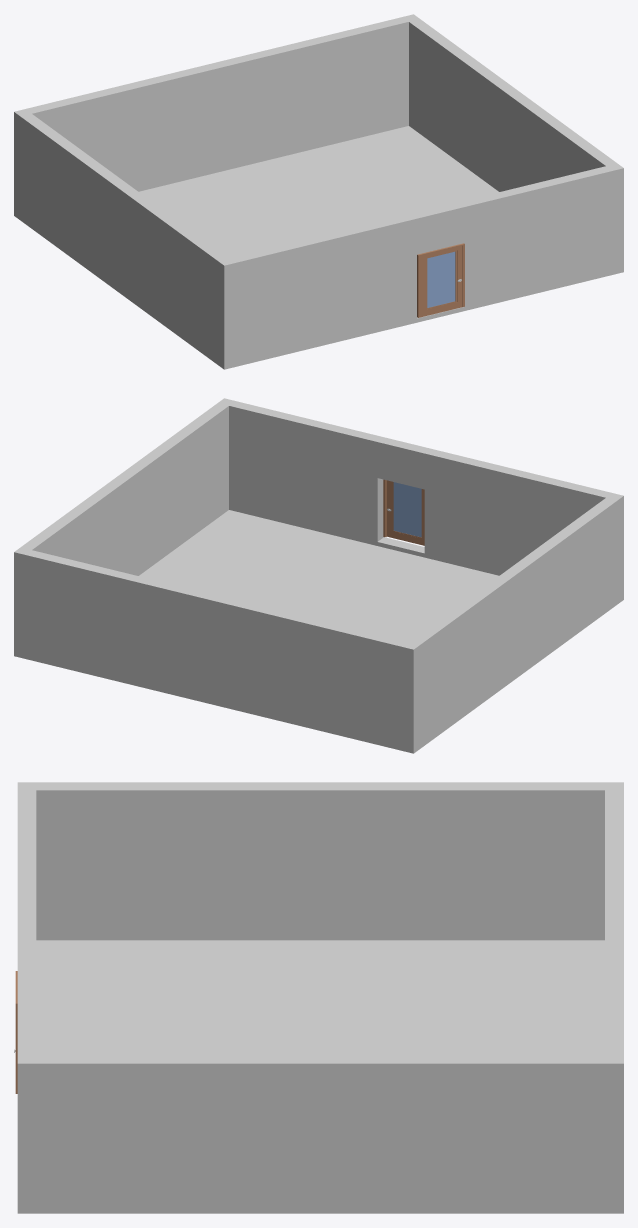
File: murat4.dae
3 renders of one model, top to bottom at view 1: azimuth 30°, elevation 25°; view 2: azimuth 150°, elevation 25°; view 3: azimuth 270°, elevation 25°, orthographic. The views are drawn at different scales.
Visible parts, largest first — view 1: skpF77D1, Model; view 2: skpF77D1, Model; view 3: skpF77D1.
Part boxes in pixels (x1,y1,x2,y2): skpF77D1: [14, 14, 623, 369]; Model: [417, 243, 464, 317]; skpF77D1: [14, 398, 623, 753]; Model: [383, 479, 424, 545]; skpF77D1: [17, 782, 623, 1213].
Bounding box in the file's own units: 3.94 × 3.61 × 0.98.
